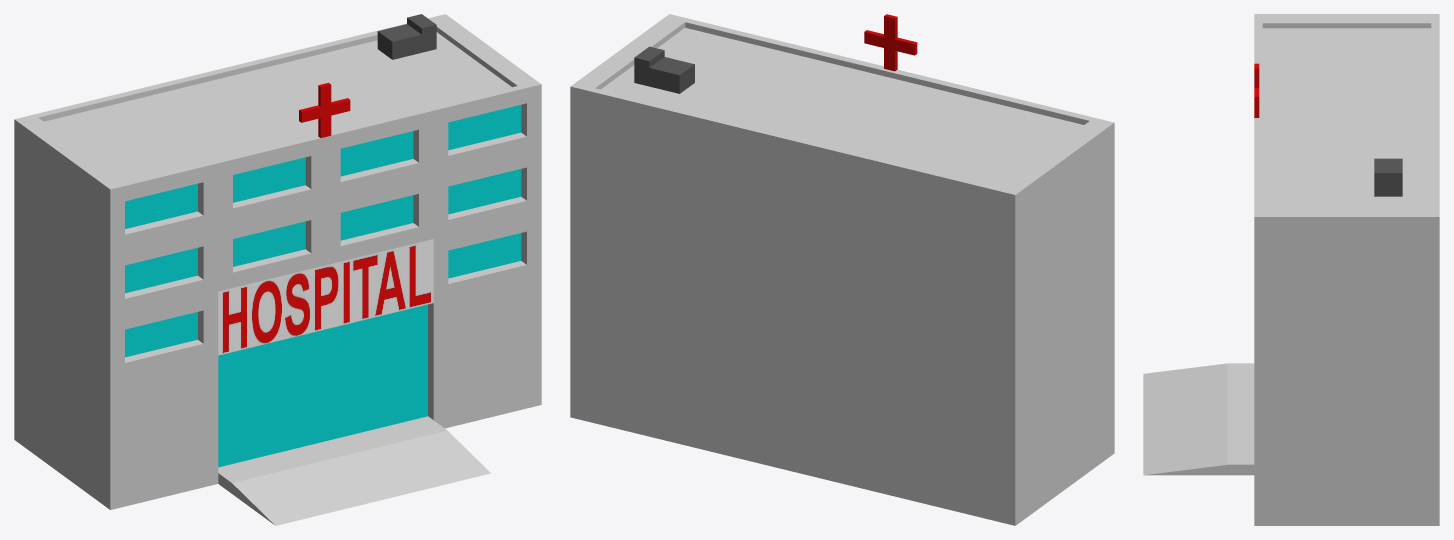
File: hospital.fbx
3 renders of one model, left to right at view 1: azimuth 30°, elevation 25°; view 2: azimuth 150°, elevation 25°; view 3: azimuth 270°, elevation 25°, orthographic. The views are drawn at different scales.
Parts seen in each view (by area): view 1: building, stair, airconditioning, sing, sing1; view 2: building, airconditioning, sing1; view 3: building, stair, airconditioning.
Part boxes in pixels (x1=…): building: x1=14, y1=14, x2=541, y2=509; stair: x1=218, y1=416, x2=490, y2=525; airconditioning: x1=377, y1=14, x2=436, y2=59; sing: x1=299, y1=98, x2=350, y2=122; sing1: x1=318, y1=82, x2=331, y2=137; building: x1=570, y1=14, x2=1114, y2=525; airconditioning: x1=634, y1=46, x2=694, y2=93; sing1: x1=884, y1=14, x2=897, y2=71; building: x1=1254, y1=14, x2=1439, y2=525; stair: x1=1143, y1=363, x2=1254, y2=475; airconditioning: x1=1374, y1=158, x2=1402, y2=196.
Bounding box in the file's own units: 8.81 × 7.26 × 5.44.
Materials: 5 (1 with a texture image).
